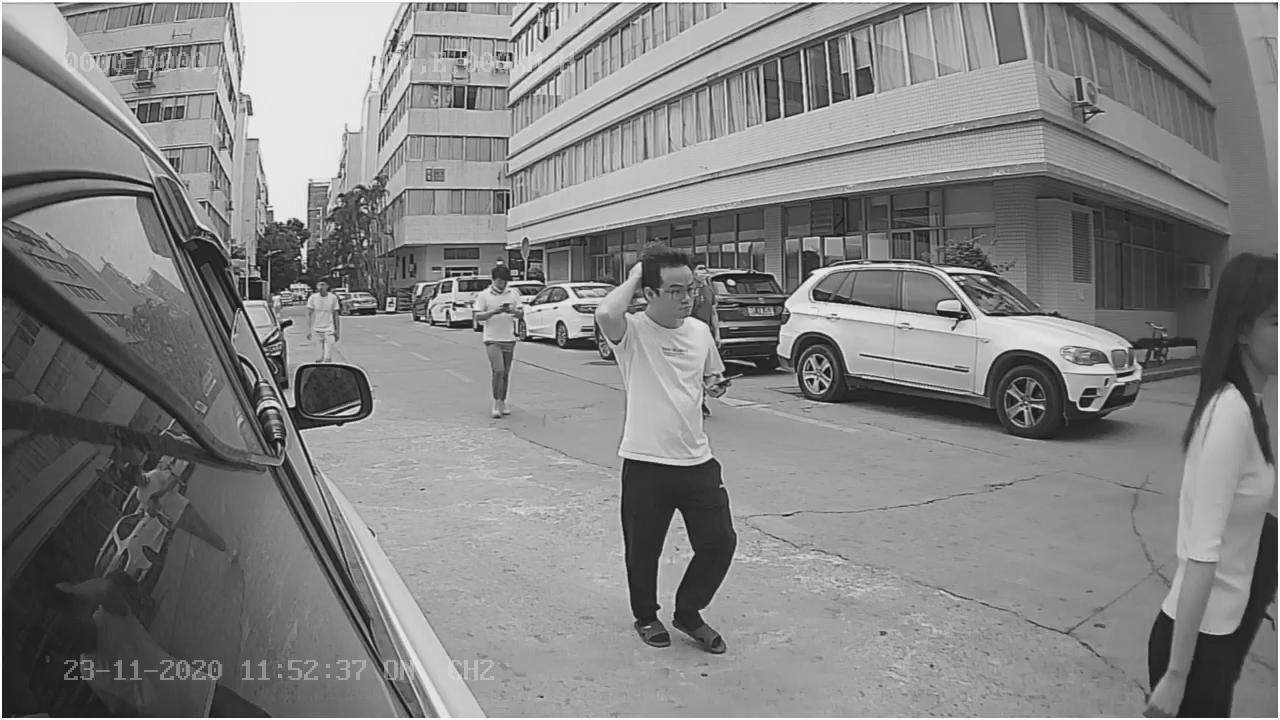person: (601, 253, 732, 652)
